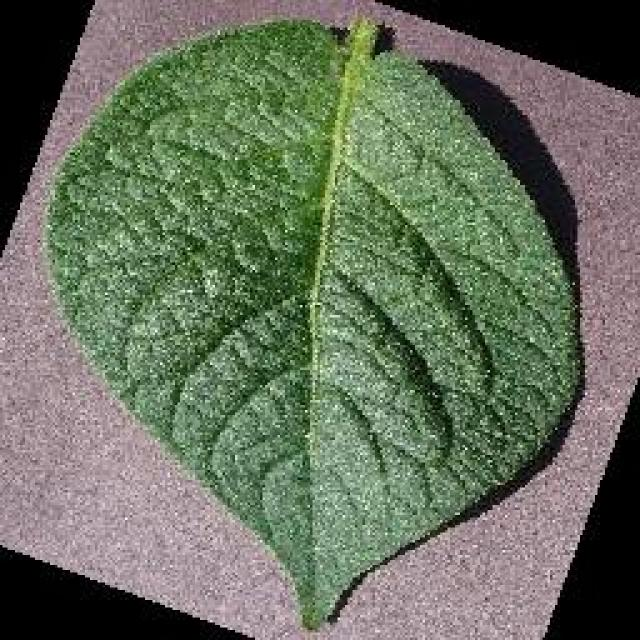Potato___healthy: (40, 5, 587, 636)
